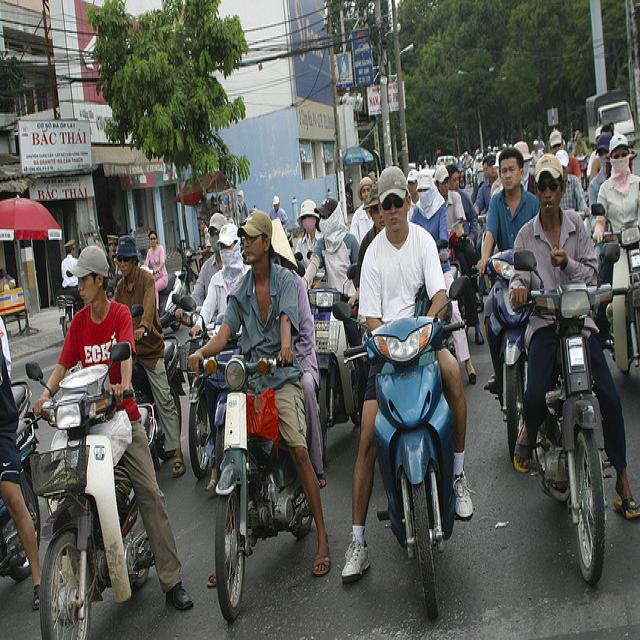motor: (25, 250, 632, 628), (331, 304, 461, 621), (293, 247, 370, 467), (478, 260, 532, 455), (131, 303, 187, 459), (591, 203, 640, 374), (181, 298, 225, 479), (1, 420, 42, 582), (487, 282, 508, 407), (159, 270, 187, 331), (451, 260, 473, 329), (55, 295, 85, 339)
